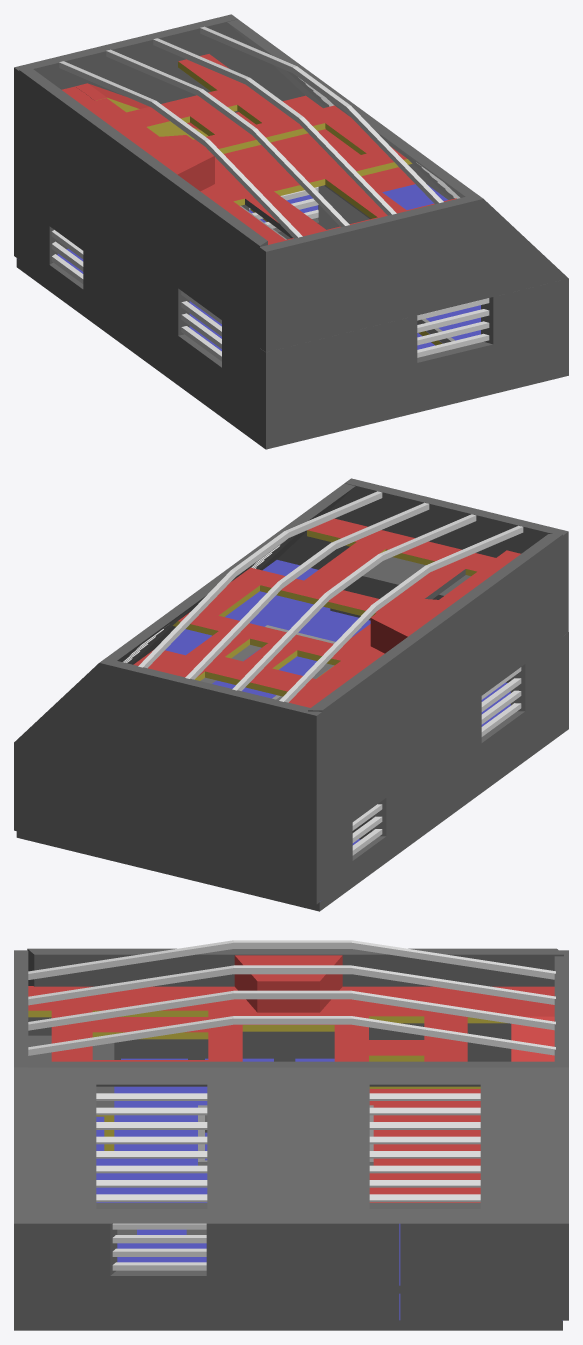
File: Prototype Map.fbx
3 renders of one model, top to bottom at view 1: azimuth 30°, elevation 25°; view 2: azimuth 150°, elevation 25°; view 3: azimuth 270°, elevation 25°, orthographic. The views are drawn at different scales.
Parts seen in each view (by area): view 1: Cube.004; view 2: Cube.004; view 3: Cube.004.
Boxes of the visible parts, left/top/right/bottom form: Cube.004: left=14, top=14, right=568, bottom=449; Cube.004: left=14, top=478, right=568, bottom=911; Cube.004: left=14, top=940, right=568, bottom=1330.
Size of the model in its own units: 1956 by 1393 by 2818.
